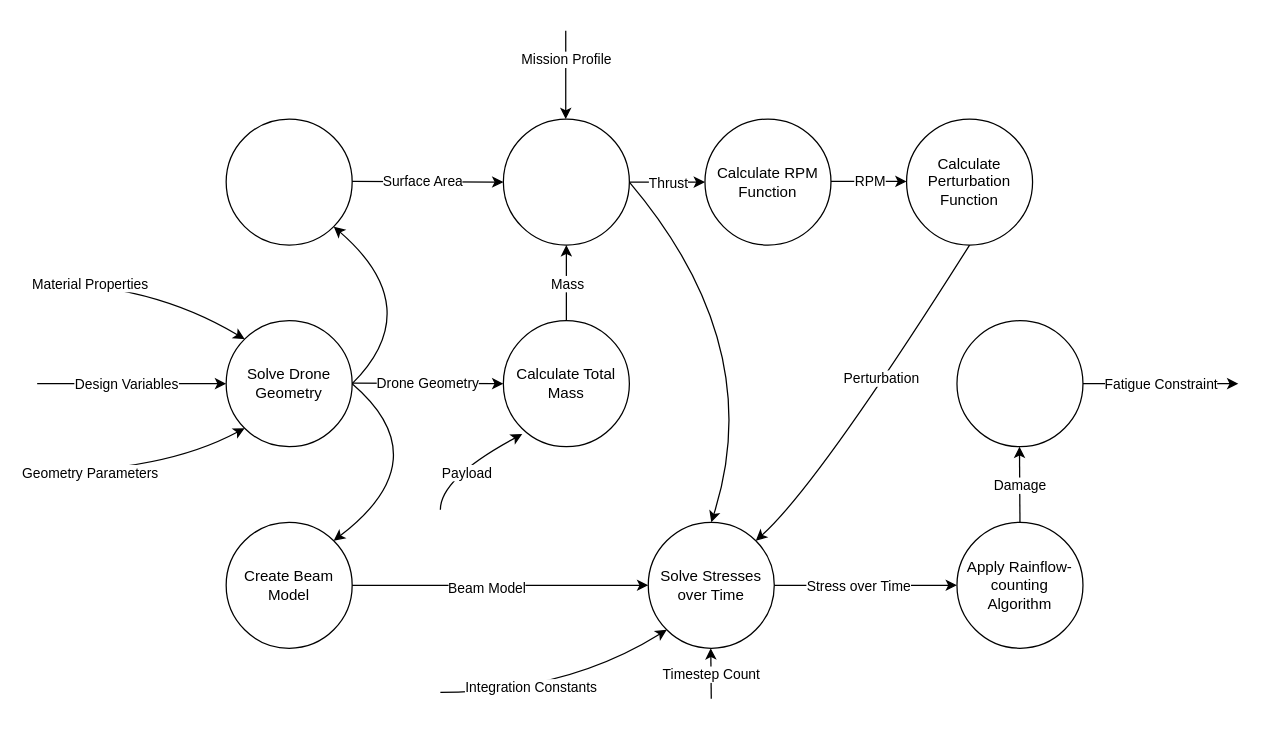
Image size: 1271x731. Some labels were removed from this diagram. The shapes that lost their labels are listed below. From the top down, each one's centre as x and y in pixels, then its label:
the point at 288,181: Calculate Suface Area
the point at 565,181: Create Thrust Function
the point at 1019,383: Calculate Fatigue Constraint
